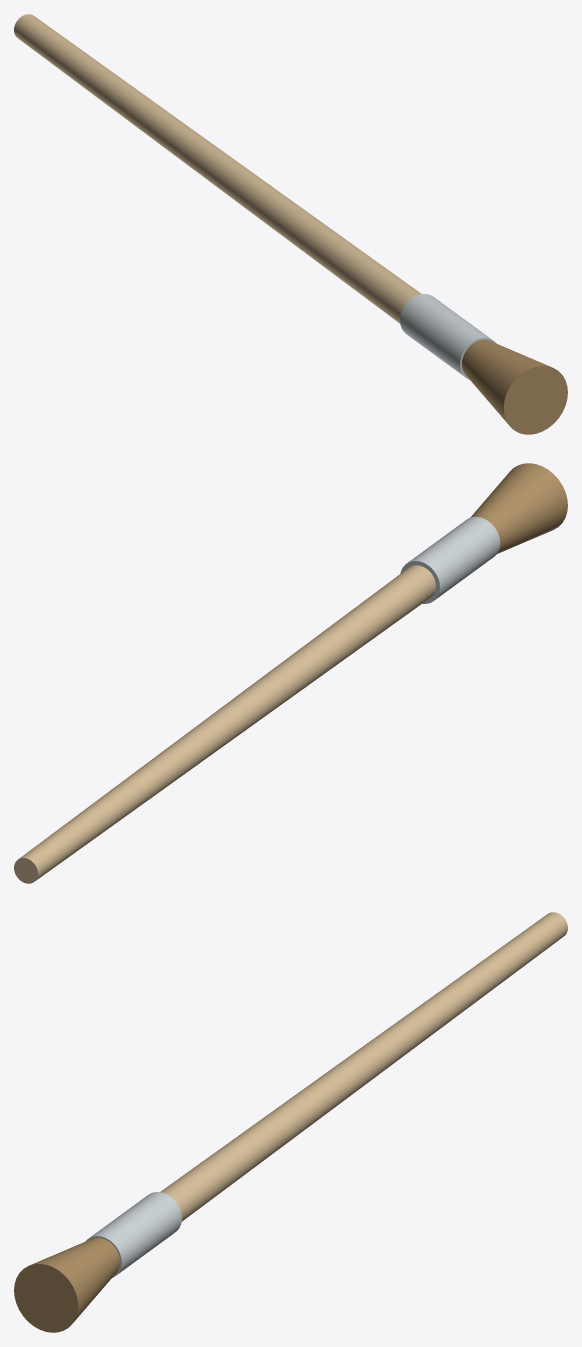
The model's file is tabletop-hobby-store-and-club-drybrush-1fbb91ef__31593.glb.
3 views of the same model, one above another, from view 1: azimuth 30°, elevation 25°; view 2: azimuth 150°, elevation 25°; view 3: azimuth 330°, elevation 25° (orthographic).
Visible parts, largest first — view 1: drybrush; view 2: drybrush; view 3: drybrush.
Boxes of the visible parts, box(x1,y1,x2,y2) form: drybrush: box(14, 14, 567, 434); drybrush: box(14, 463, 567, 883); drybrush: box(14, 912, 567, 1332).
Size of the model in its own units: 0.008 by 0.008 by 0.11.
